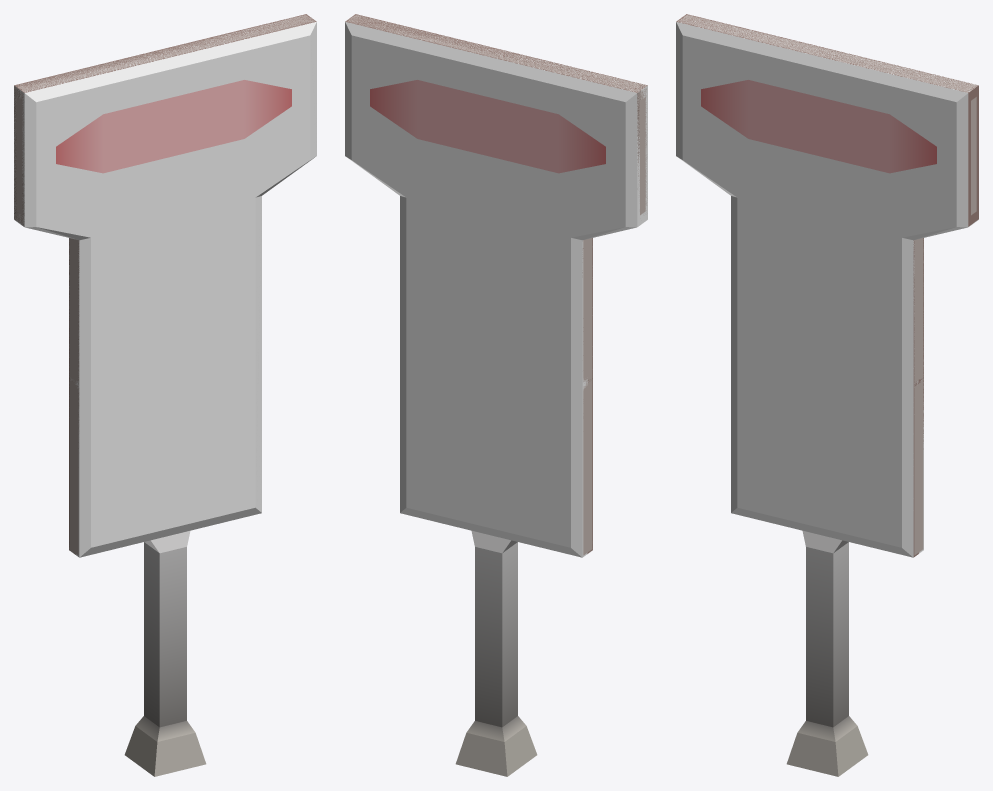
Rendered from s_fuel_sign_nodeoline.dae.
The picture shows the model from 3 angles, left to right: view 1: azimuth 30°, elevation 25°; view 2: azimuth 150°, elevation 25°; view 3: azimuth 330°, elevation 25°; orthographic projection.
Parts seen in each view (by area): view 1: Colmesh_s_fuel_sign_nodeoline-1, s_fuel_sign_nodeoline_L80, s_fuel_sign_nodeoline_L1000, s_fuel_sign_nodeoline_L30; view 2: Colmesh_s_fuel_sign_nodeoline-1, s_fuel_sign_nodeoline_L80, s_fuel_sign_nodeoline_L1000, s_fuel_sign_nodeoline_L30; view 3: Colmesh_s_fuel_sign_nodeoline-1, s_fuel_sign_nodeoline_L80, s_fuel_sign_nodeoline_L1000, s_fuel_sign_nodeoline_L30.
Boxes of the visible parts, bbox=[...] form: Colmesh_s_fuel_sign_nodeoline-1: bbox=[14, 15, 316, 776]; s_fuel_sign_nodeoline_L80: bbox=[14, 19, 313, 544]; s_fuel_sign_nodeoline_L1000: bbox=[14, 15, 314, 555]; s_fuel_sign_nodeoline_L30: bbox=[14, 14, 316, 550]; Colmesh_s_fuel_sign_nodeoline-1: bbox=[345, 18, 647, 776]; s_fuel_sign_nodeoline_L80: bbox=[345, 18, 646, 550]; s_fuel_sign_nodeoline_L1000: bbox=[347, 15, 647, 555]; s_fuel_sign_nodeoline_L30: bbox=[345, 14, 647, 553]; Colmesh_s_fuel_sign_nodeoline-1: bbox=[676, 14, 978, 776]; s_fuel_sign_nodeoline_L80: bbox=[685, 15, 978, 556]; s_fuel_sign_nodeoline_L1000: bbox=[680, 15, 976, 555]; s_fuel_sign_nodeoline_L30: bbox=[676, 14, 978, 557].
Bounding box in the file's own units: 6.4 × 1.14 × 14.77.
